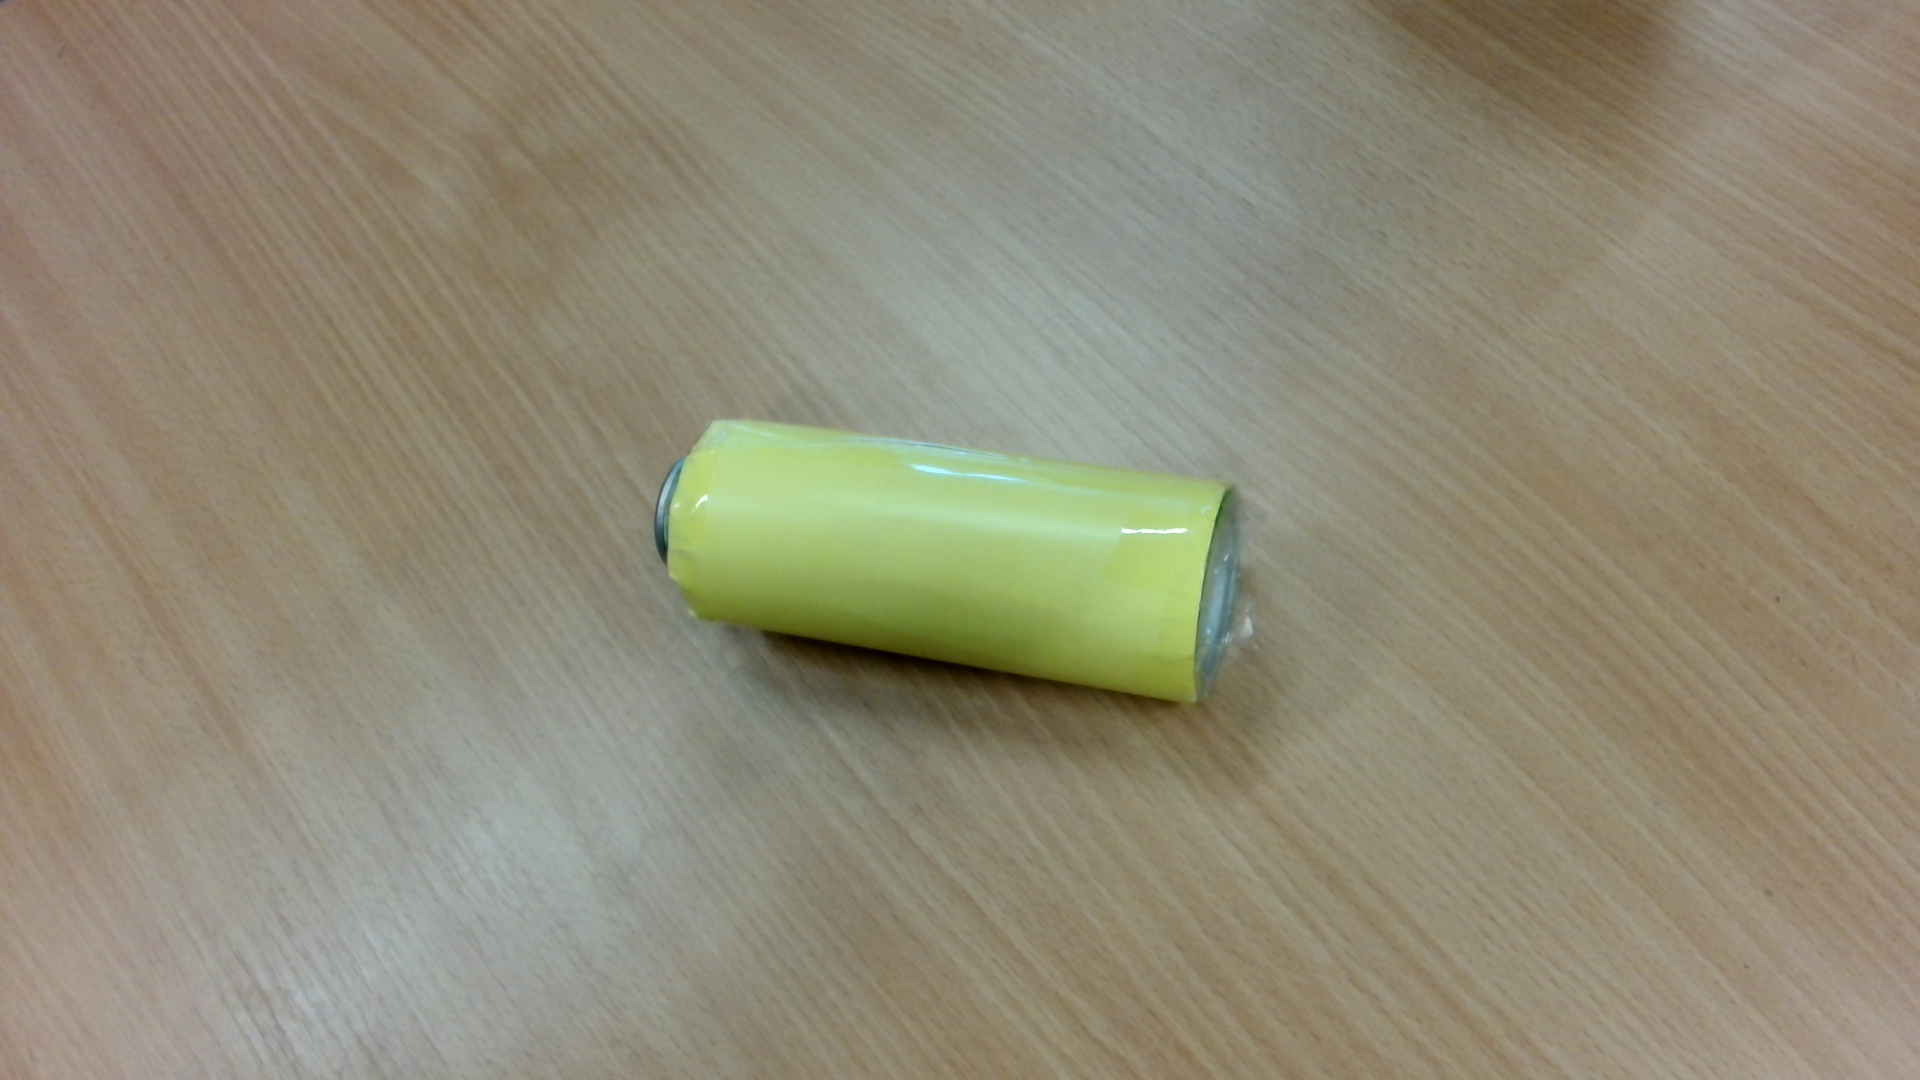Cylinder: (640, 407, 1263, 717)
